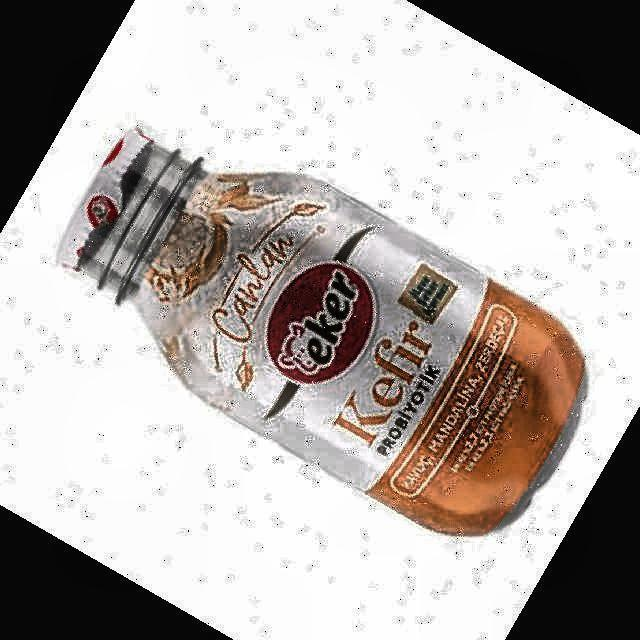plastic: (59, 129, 584, 533)
